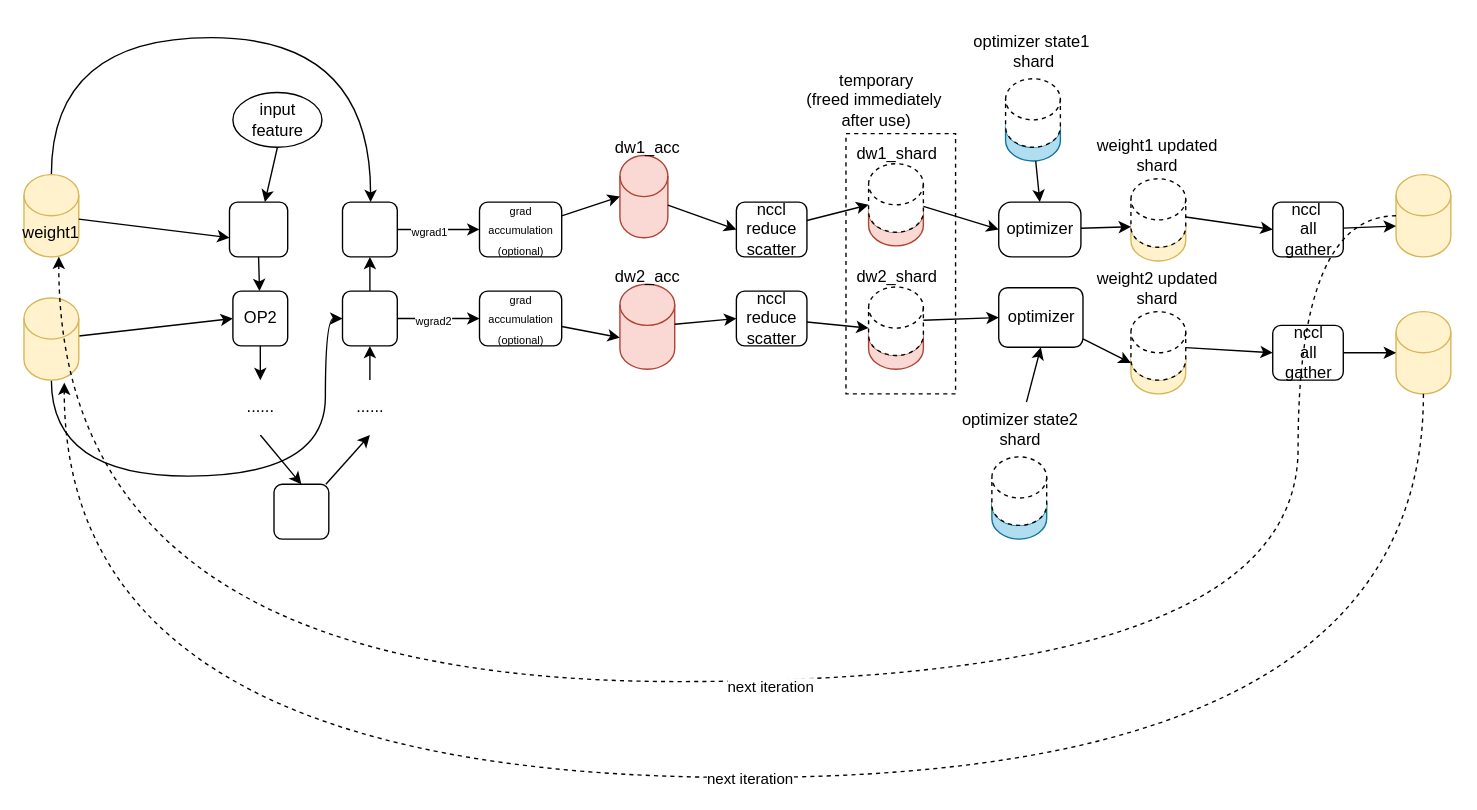
Image size: 1477x810. Some labels were removed from this diagram. Here are the shapes that lost their labels. From the top down, the centre of each, then its label:
point (258, 229): OP1
point (369, 229): OP1 bwd
point (1423, 215): weight1 updated
point (51, 338): weight2
point (369, 318): OP2 bwd
point (1423, 352): weight2 updated
point (301, 511): loss
